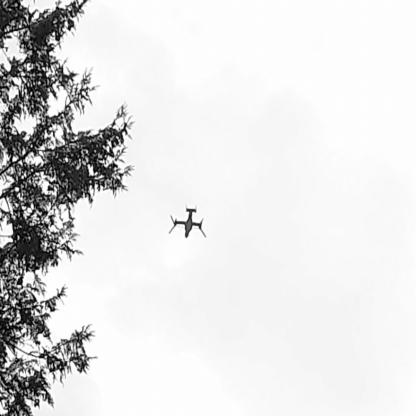V22: (169, 205, 208, 240)
